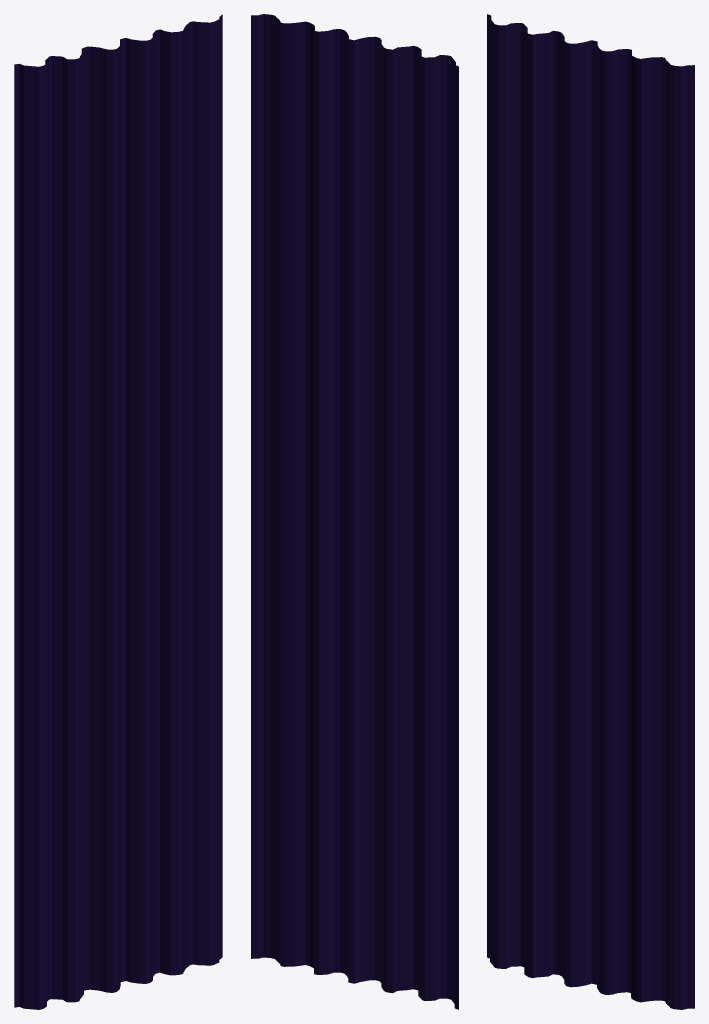
The model's file is alice_curtain.FBX.
3 renders of one model, left to right at view 1: azimuth 30°, elevation 25°; view 2: azimuth 150°, elevation 25°; view 3: azimuth 330°, elevation 25°, orthographic.
Visible parts, largest first — view 1: Line013; view 2: Line013; view 3: Line013.
Part boxes in pixels (bbox=[...]): Line013: bbox=[14, 14, 222, 1009]; Line013: bbox=[251, 14, 458, 1009]; Line013: bbox=[487, 14, 694, 1009].
Size of the model in its own units: 97.73 by 423 by 8.
